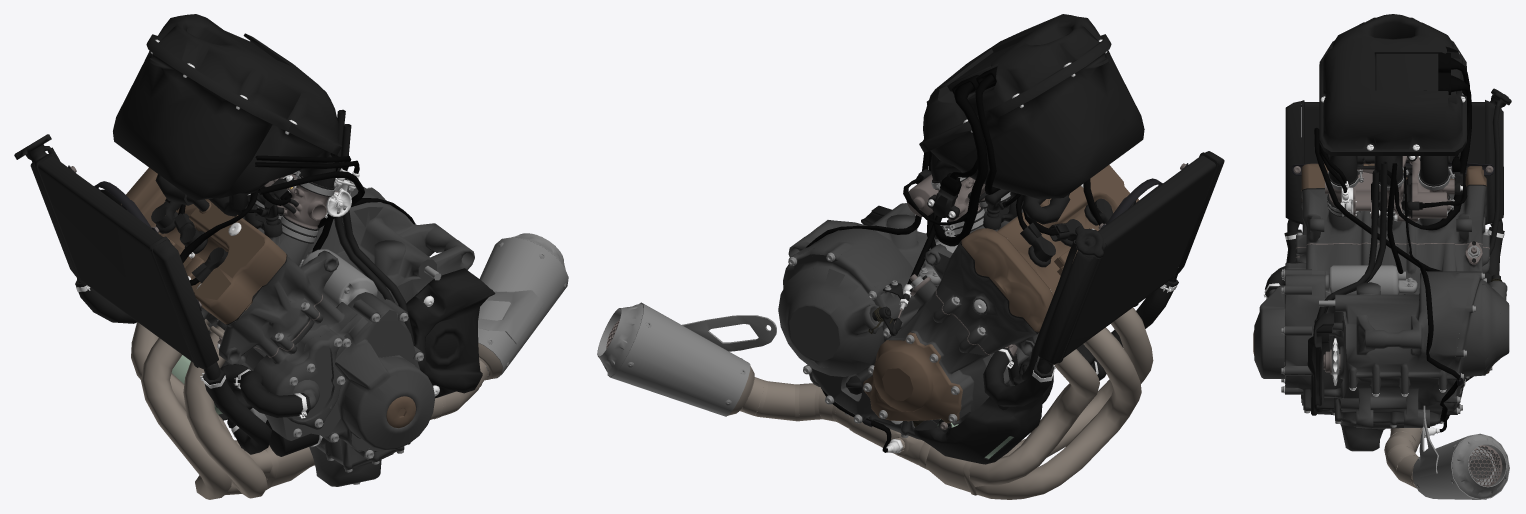
Rendered from eng-m-triple-765.glb.
3 renders of one model, left to right at view 1: azimuth 30°, elevation 25°; view 2: azimuth 150°, elevation 25°; view 3: azimuth 270°, elevation 25°, orthographic. The views are drawn at different scales.
Parts seen in each view (by area): view 1: airbox_Black Plastic_0, headers and pipe_Headers_0, stator cover_Engine Gray Smooth_0, crank case_Engine Gray Rough_0, raditator_Black Plastic_0, valve cover_Engine Bronze_0, exhaust barrel_Dull Metal_0, sprocket cover_Black Plastic_0, cylinders_Engine Gray Rough_0, radiator hoses_Black Rubber_0, raditator_Black Paint_0, water pump cover_Engine Gray Smooth_0 (+14 smaller); view 2: airbox_Black Plastic_0, headers and pipe_Headers_0, clutch cover_Engine Gray Smooth_0, crank case_Engine Gray Rough_0, raditator_Black Plastic_0, exhaust barrel_Dull Metal_0, valve cover_Engine Bronze_0, timing cover_Engine Bronze_0, cylinders_Engine Gray Rough_0, harness_Electrical_0, coolant bottle guard_Black Plastic_0, raditator_Black Paint_0 (+9 smaller); view 3: crank case_Engine Gray Rough_0, airbox_Black Plastic_0, cylinders_Engine Gray Rough_0, clutch cover_Engine Gray Smooth_0, stator cover_Engine Gray Smooth_0, raditator_Black Paint_0, exhaust barrel_Dull Metal_0, harness_Electrical_0, throttle bodies_Dark Metal_0, ecu_Black Plastic_0, overflows_Black Rubber_0, exhaust ring_Dull Metal_0 (+16 smaller).
Part boxes in pixels (left/top/right/bottom): airbox_Black Plastic_0: left=113, top=14, right=341, bottom=200; headers and pipe_Headers_0: left=131, top=319, right=502, bottom=499; stator cover_Engine Gray Smooth_0: left=270, top=304, right=435, bottom=459; crank case_Engine Gray Rough_0: left=208, top=185, right=474, bottom=465; raditator_Black Plastic_0: left=38, top=156, right=192, bottom=362; valve cover_Engine Bronze_0: left=121, top=167, right=286, bottom=324; exhaust barrel_Dull Metal_0: left=478, top=237, right=568, bottom=378; sprocket cover_Black Plastic_0: left=406, top=268, right=495, bottom=397; cylinders_Engine Gray Rough_0: left=201, top=217, right=338, bottom=364; radiator hoses_Black Rubber_0: left=75, top=280, right=310, bottom=454; raditator_Black Paint_0: left=25, top=144, right=220, bottom=380; water pump cover_Engine Gray Smooth_0: left=275, top=334, right=344, bottom=429; airbox_Black Plastic_0: left=919, top=14, right=1144, bottom=199; headers and pipe_Headers_0: left=728, top=307, right=1153, bottom=499; clutch cover_Engine Gray Smooth_0: left=778, top=248, right=891, bottom=422; crank case_Engine Gray Rough_0: left=788, top=203, right=1039, bottom=433; raditator_Black Plastic_0: left=1064, top=155, right=1215, bottom=357; exhaust barrel_Dull Metal_0: left=607, top=302, right=776, bottom=416; valve cover_Engine Bronze_0: left=961, top=165, right=1138, bottom=332; timing cover_Engine Bronze_0: left=863, top=332, right=962, bottom=423; cylinders_Engine Gray Rough_0: left=924, top=209, right=1038, bottom=356; harness_Electrical_0: left=903, top=66, right=1103, bottom=246; coolant bottle guard_Black Plastic_0: left=914, top=395, right=1043, bottom=464; raditator_Black Paint_0: left=1037, top=151, right=1224, bottom=373; crank case_Engine Gray Rough_0: left=1295, top=243, right=1489, bottom=427; airbox_Black Plastic_0: left=1319, top=14, right=1466, bottom=186; cylinders_Engine Gray Rough_0: left=1295, top=185, right=1489, bottom=256; clutch cover_Engine Gray Smooth_0: left=1448, top=271, right=1509, bottom=414; stator cover_Engine Gray Smooth_0: left=1254, top=263, right=1298, bottom=394; raditator_Black Paint_0: left=1285, top=94, right=1506, bottom=232; exhaust barrel_Dull Metal_0: left=1412, top=405, right=1509, bottom=499; harness_Electrical_0: left=1327, top=53, right=1471, bottom=230; throttle bodies_Dark Metal_0: left=1325, top=156, right=1454, bottom=221; ecu_Black Plastic_0: left=1375, top=53, right=1438, bottom=90; overflows_Black Rubber_0: left=1311, top=161, right=1387, bottom=415; exhaust ring_Dull Metal_0: left=1451, top=435, right=1508, bottom=498.
Size of the model in its own units: 0.9062 by 0.7943 by 0.4812.
